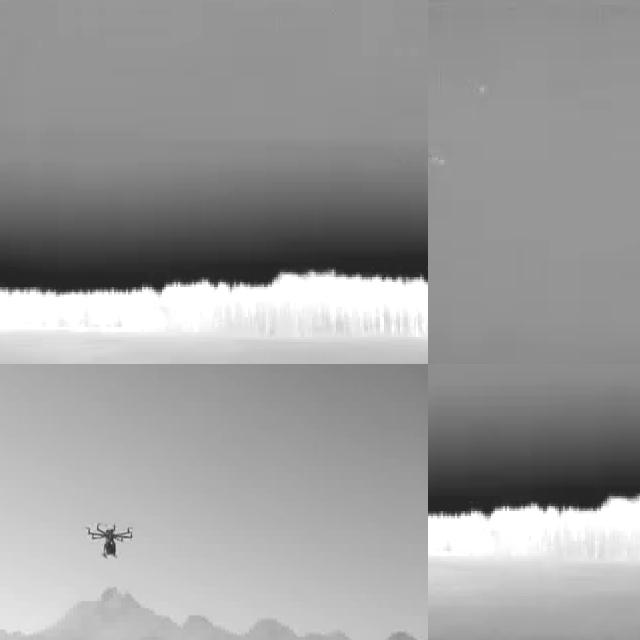0: (466, 80, 494, 102), (428, 148, 448, 176)
drone: (84, 517, 135, 566)
